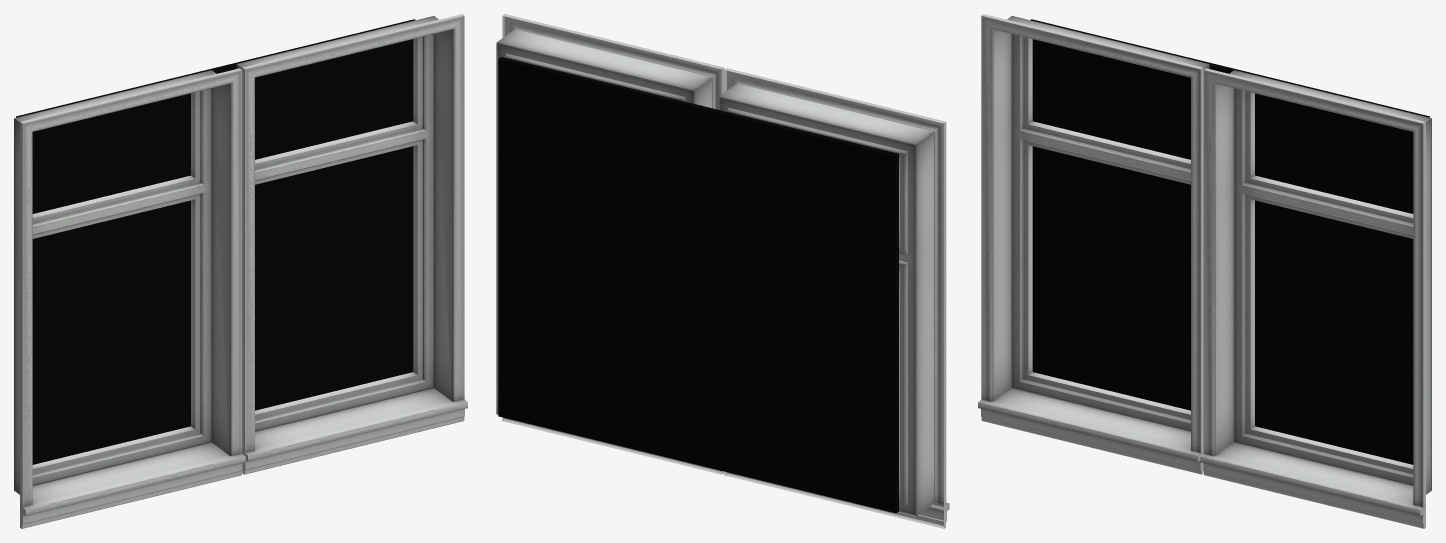
Rendered from Window.fbx.
3 renders of one model, left to right at view 1: azimuth 30°, elevation 25°; view 2: azimuth 150°, elevation 25°; view 3: azimuth 330°, elevation 25°, orthographic.
Visible parts, largest first — view 1: pCube1, Body.Courtyard_Template002_Window_reference.smd.mesh_0, Body.Courtyard_Template002_Window_reference.smd.mesh_1; view 2: pCube1, Body.Courtyard_Template002_Window_reference.smd.mesh_0, Body.Courtyard_Template002_Window_reference.smd.mesh_1; view 3: pCube1, Body.Courtyard_Template002_Window_reference.smd.mesh_1, Body.Courtyard_Template002_Window_reference.smd.mesh_0.
Boxes of the visible parts, x1,y1,x2,y2 form: pCube1: [16, 19, 415, 464]; Body.Courtyard_Template002_Window_reference.smd.mesh_0: [14, 68, 245, 528]; Body.Courtyard_Template002_Window_reference.smd.mesh_1: [236, 14, 467, 474]; pCube1: [498, 57, 898, 513]; Body.Courtyard_Template002_Window_reference.smd.mesh_0: [718, 68, 949, 528]; Body.Courtyard_Template002_Window_reference.smd.mesh_1: [496, 14, 724, 474]; pCube1: [1030, 19, 1429, 464]; Body.Courtyard_Template002_Window_reference.smd.mesh_1: [1200, 68, 1431, 528]; Body.Courtyard_Template002_Window_reference.smd.mesh_0: [978, 14, 1209, 474].
Size of the model in its own units: 8.95 by 7.85 by 1.11.
2 materials, 2 textured.
